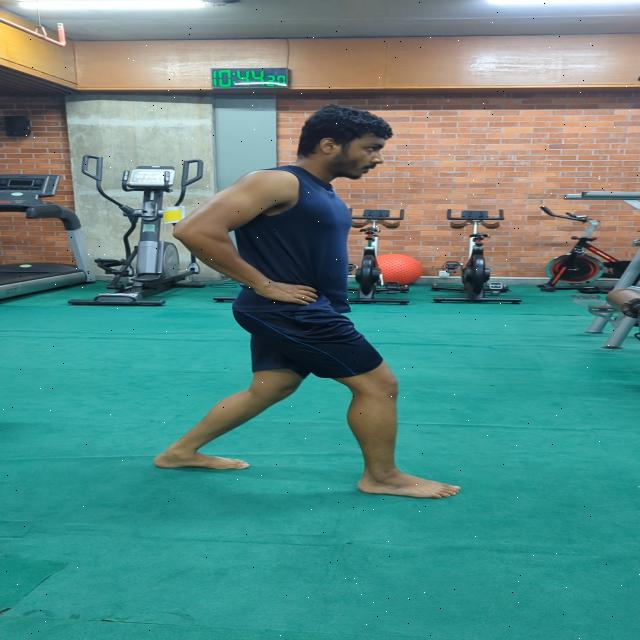Normal_Lunges: (137, 105, 483, 513)
